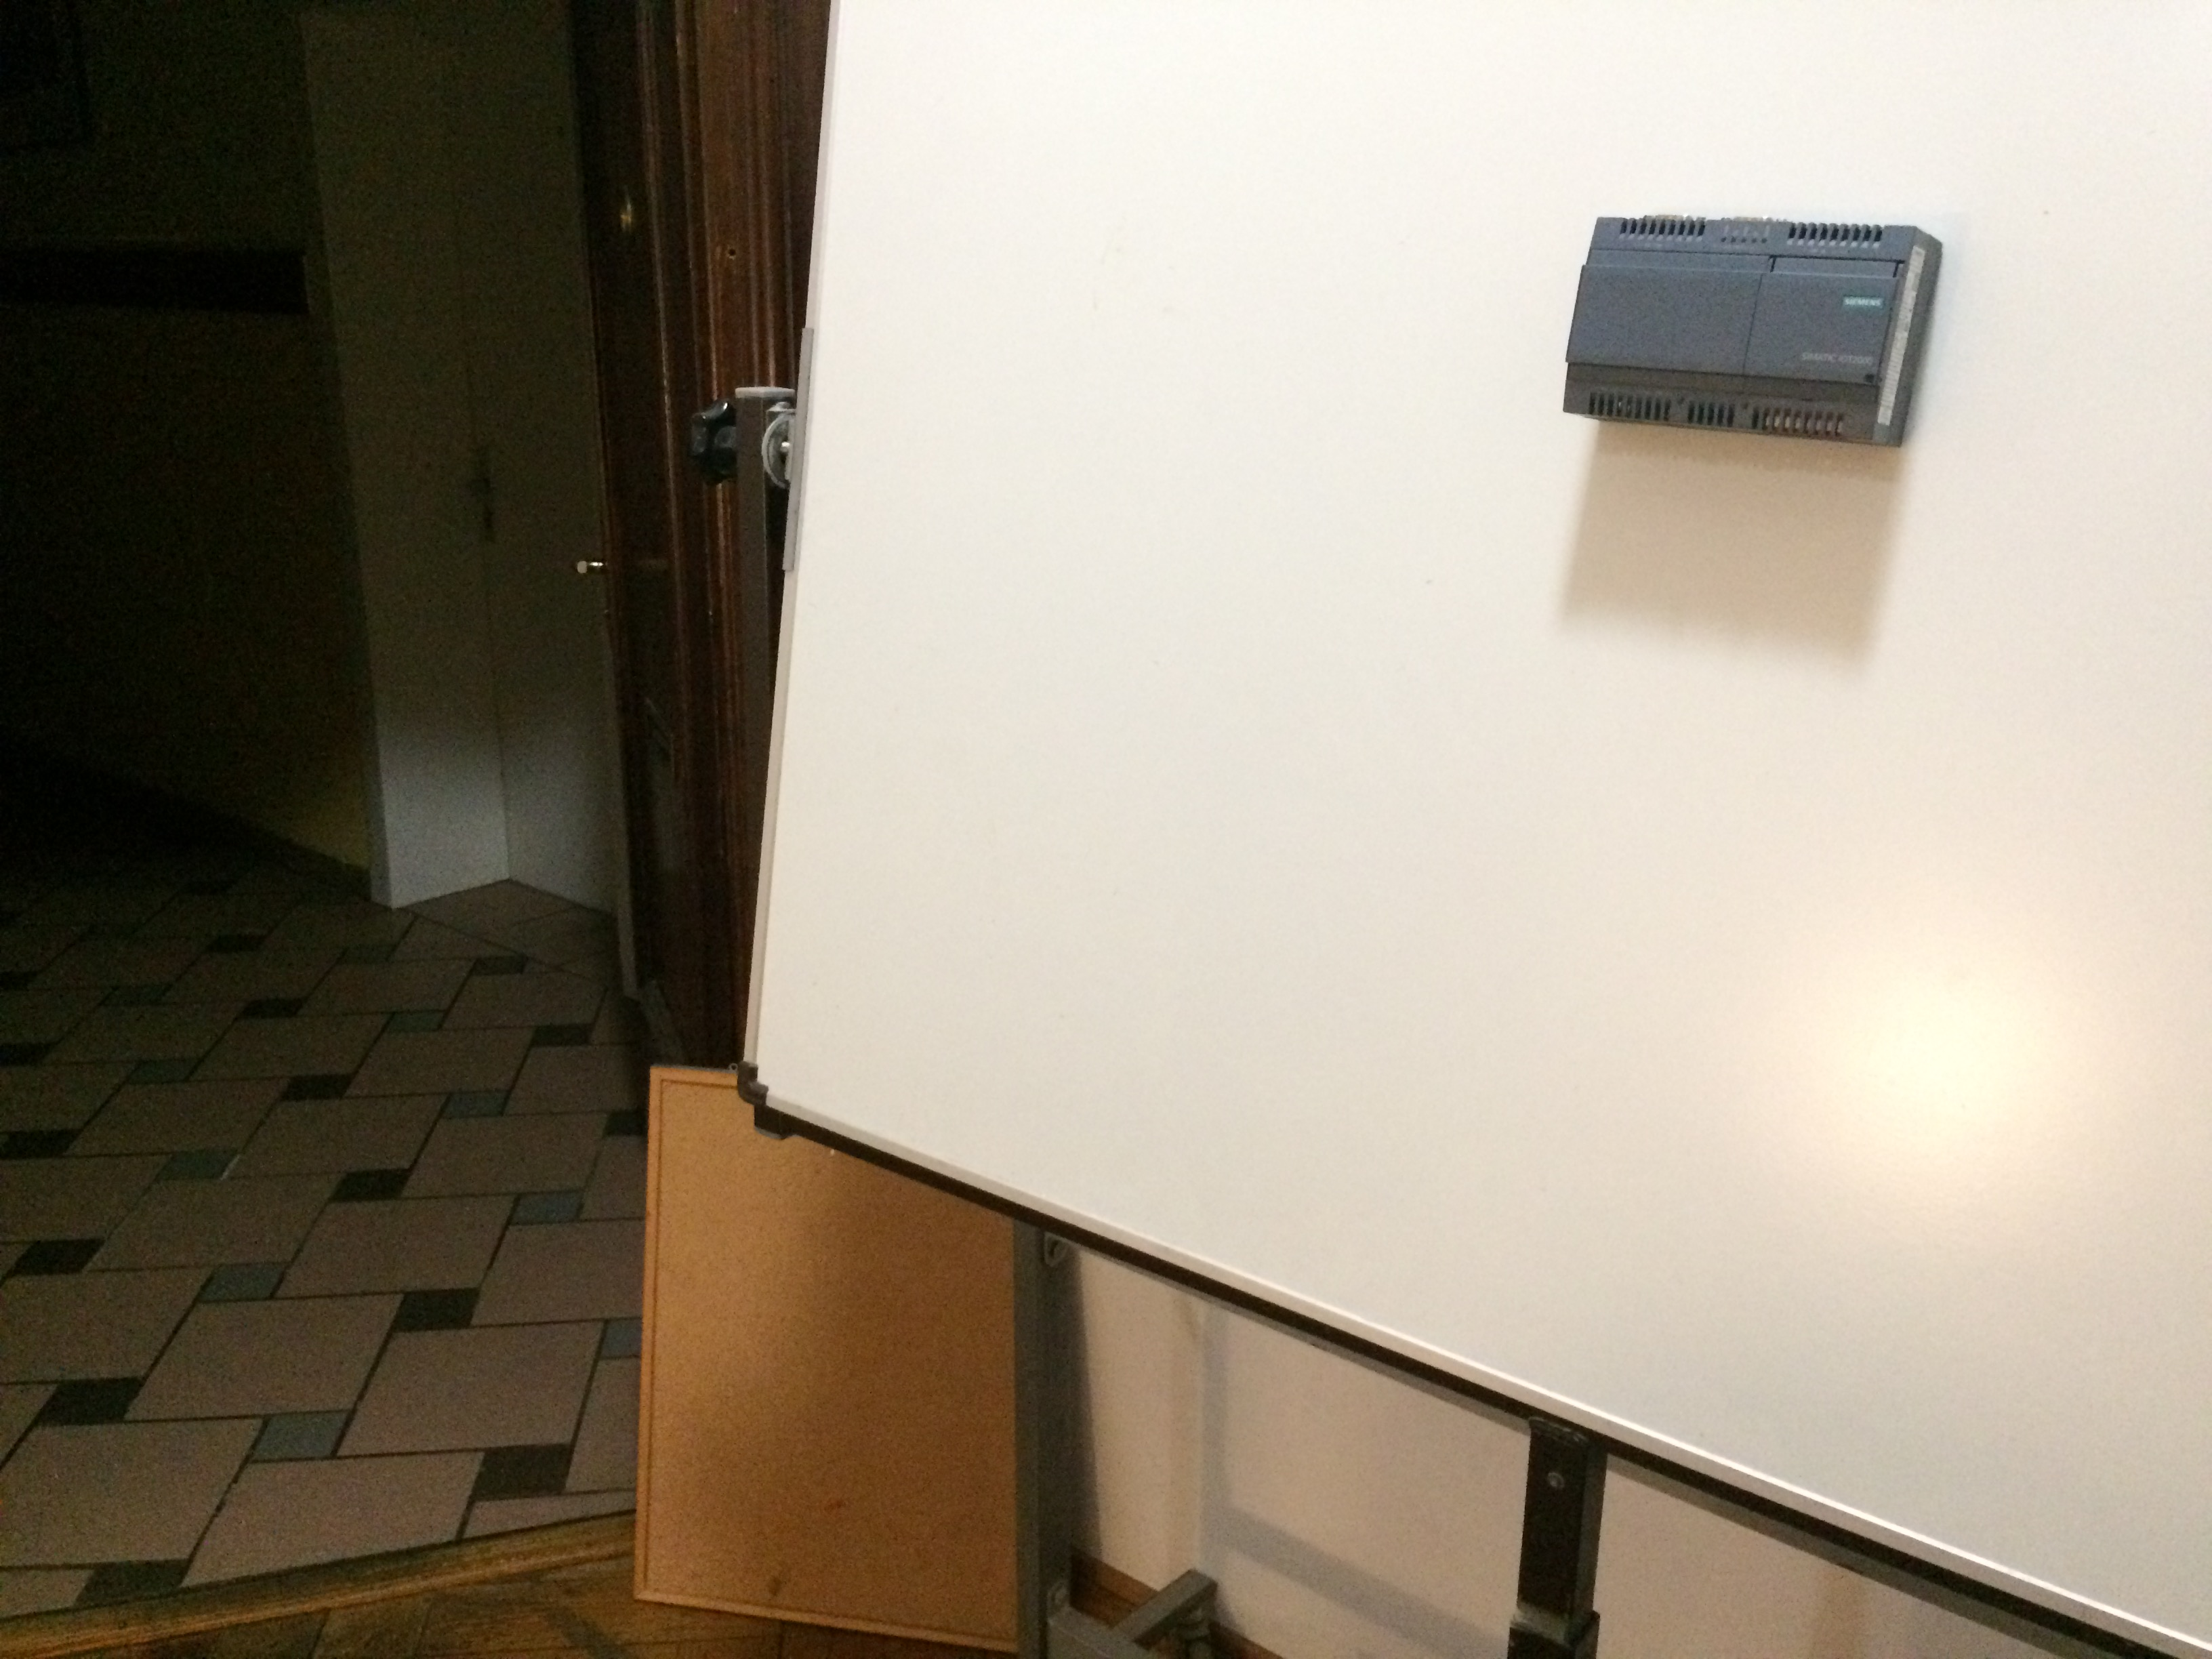iot2000: (1561, 211, 1947, 455)
